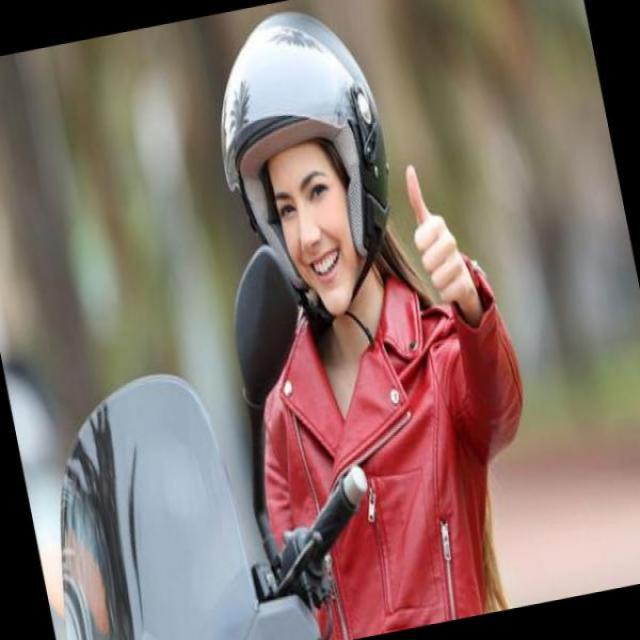Helmet: (210, 7, 392, 316)
